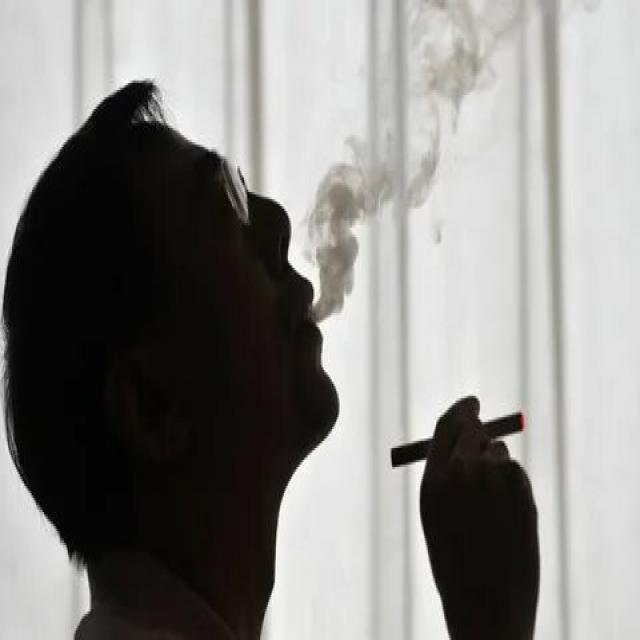smoke: (389, 408, 528, 479)
